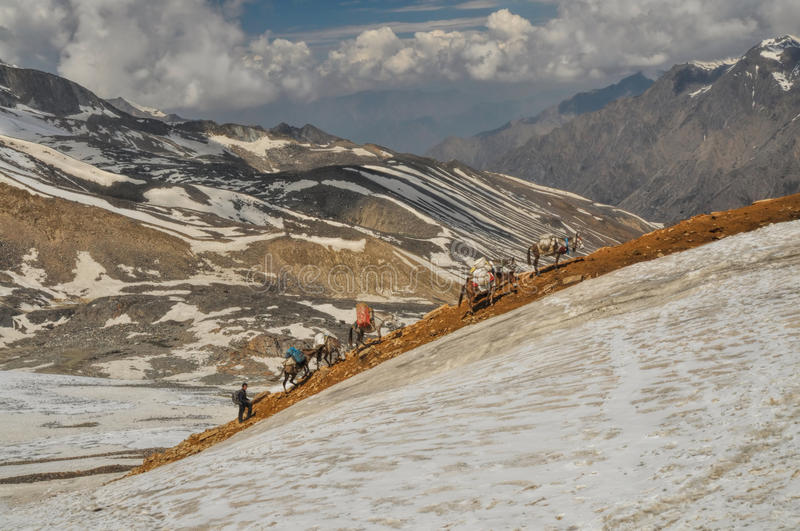equine: (499, 220, 589, 278), (452, 263, 517, 318), (333, 306, 407, 350), (267, 339, 321, 390)
human: (225, 378, 262, 425)
